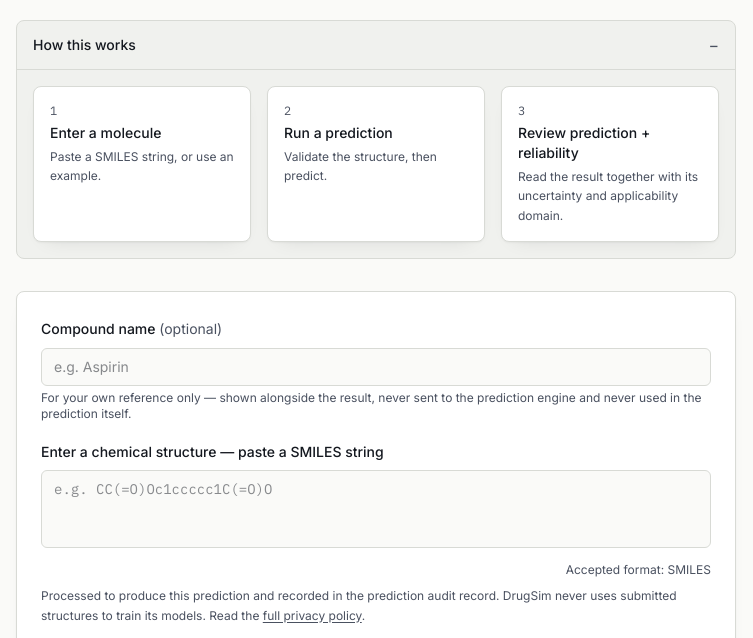
Test: PredictPage › renders the molecule preview after validation
The width and height of the screenshot is (753, 638).
Type "CC(=O)Oc1ccccc1C(=O)O" into the text box labelled "Enter a chemical structure — paste a SMILES string" at (376, 509), box x1=41 y1=470 x2=711 y2=548
(page scrolled)
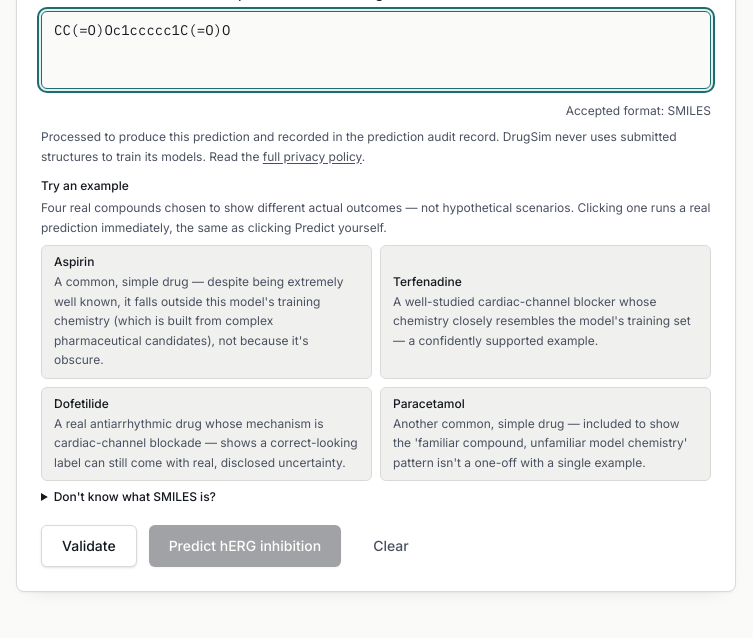
Click the button "Validate" at (89, 546), box x1=41 y1=525 x2=137 y2=567
(page scrolled)
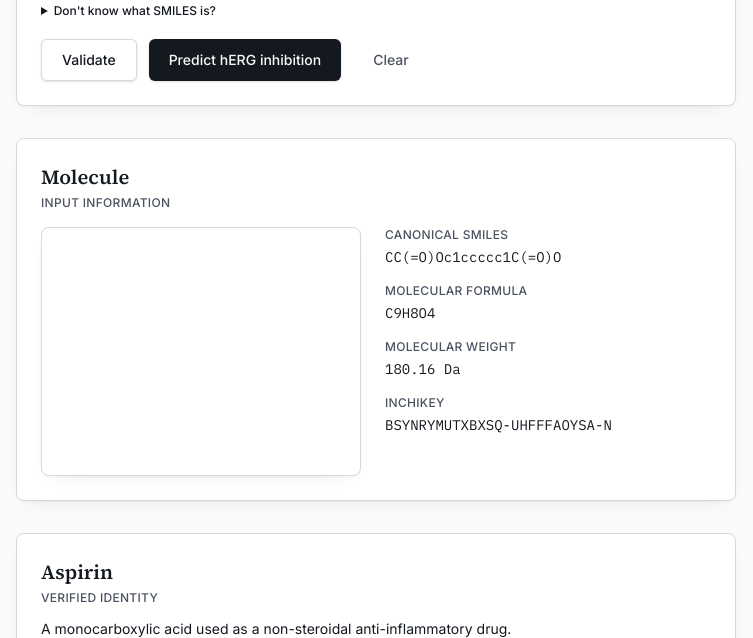
expect the text "Canonical SMILES" is shown: met, box x1=385 y1=227 x2=508 y2=242
